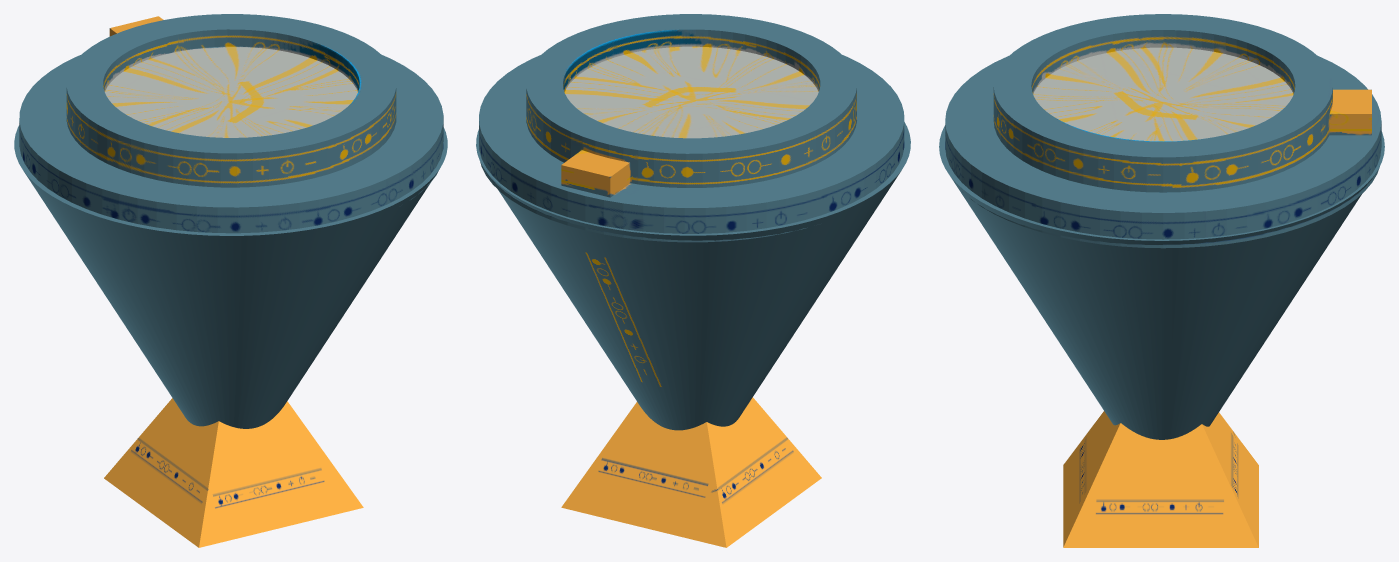
The model's file is Stand.fbx.
3 renders of one model, left to right at view 1: azimuth 30°, elevation 25°; view 2: azimuth 150°, elevation 25°; view 3: azimuth 270°, elevation 25°, orthographic. The views are drawn at different scales.
Visible parts, largest first — view 1: node_id3, root (×2); view 2: node_id3, root (×2); view 3: node_id3, root (×2).
Part boxes in pixels (left/top/right/bottom): node_id3: left=19, top=14, right=443, bottom=233; root (×2): left=14, top=125, right=447, bottom=547; node_id3: left=479, top=14, right=904, bottom=242; root (×2): left=476, top=122, right=910, bottom=547; node_id3: left=945, top=14, right=1381, bottom=248; root (×2): left=939, top=125, right=1384, bottom=547.
Size of the model in its own units: 0.557 by 0.5794 by 0.557.
3 materials, 3 textured.
